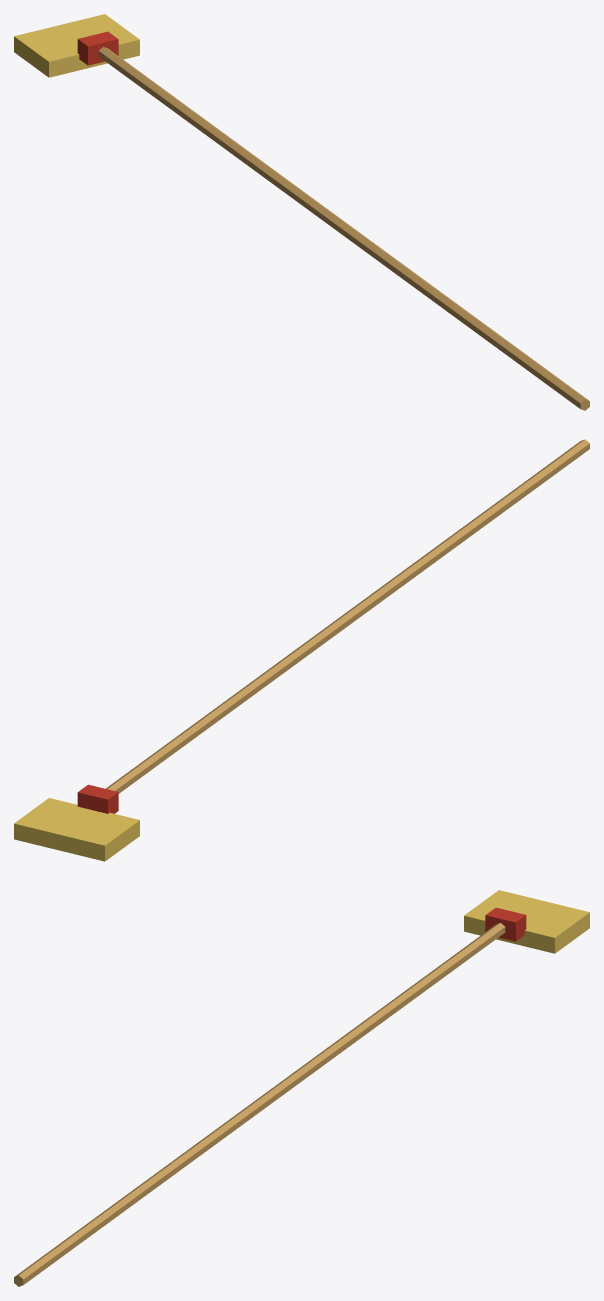
File: broom.glb
3 renders of one model, top to bottom at view 1: azimuth 30°, elevation 25°; view 2: azimuth 150°, elevation 25°; view 3: azimuth 330°, elevation 25°, orthographic.
Parts seen in each view (by area): view 1: stick_broom_wood, head_broom_straw, head_broom_band; view 2: stick_broom_wood, head_broom_straw, head_broom_band; view 3: stick_broom_wood, head_broom_straw, head_broom_band.
Boxes of the visible parts, x1=… form: stick_broom_wood: x1=98, y1=47, x2=589, y2=410; head_broom_straw: x1=14, y1=14, x2=139, y2=77; head_broom_band: x1=77, y1=31, x2=118, y2=65; stick_broom_wood: x1=106, y1=439, x2=589, y2=793; head_broom_straw: x1=14, y1=798, x2=139, y2=861; head_broom_band: x1=77, y1=784, x2=118, y2=813; stick_broom_wood: x1=14, y1=923, x2=505, y2=1286; head_broom_straw: x1=464, y1=890, x2=589, y2=953; head_broom_band: x1=485, y1=907, x2=526, y2=941.
Size of the model in its own units: 0.3 by 0.095 by 3.
